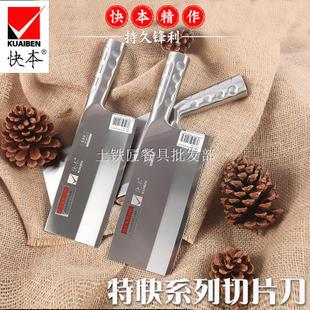knife: (32, 37, 209, 281)
